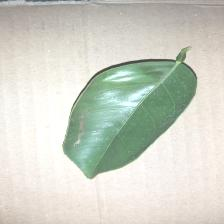healthy: (52, 51, 203, 175)
